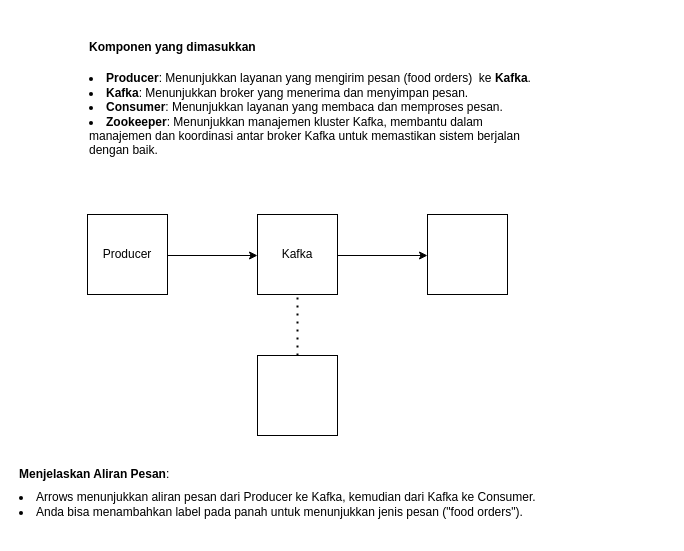
The diagram is 684 pixels wide and 551 high, and some of its shapes have lost their labels. The centre of each missing label's shape, as x and y in pixels:
"Consumer" belongs at (x=467, y=254).
"Zookeeper" belongs at (x=297, y=395).
